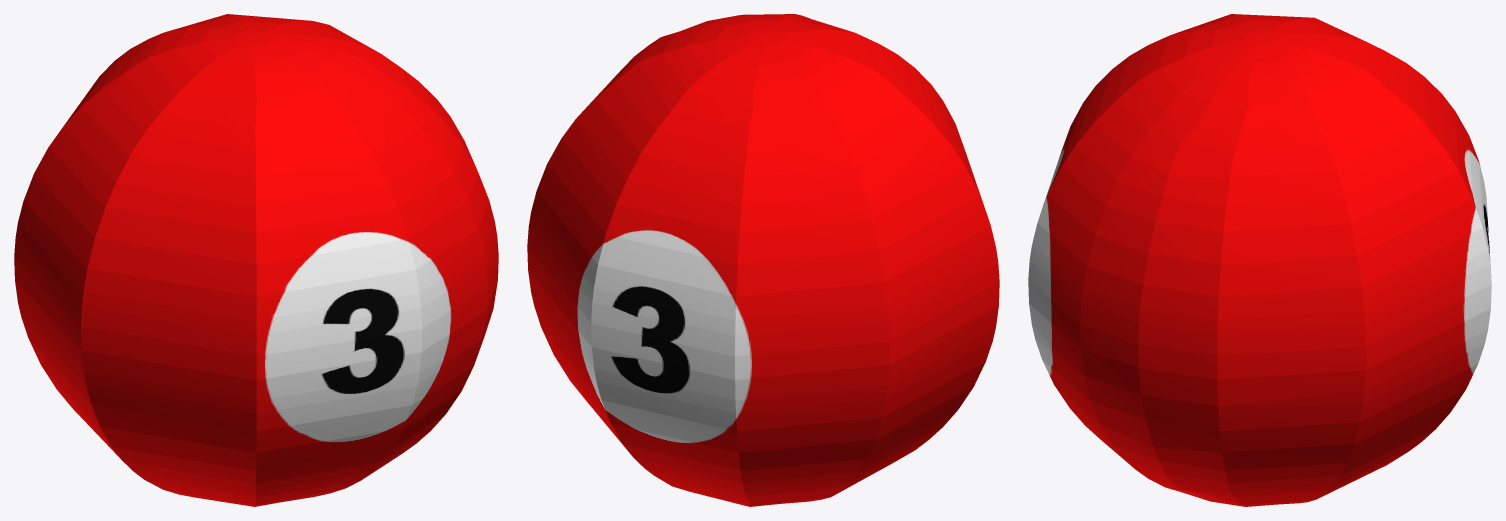
Rendered from 3Ball.fbx.
3 renders of one model, left to right at view 1: azimuth 30°, elevation 25°; view 2: azimuth 150°, elevation 25°; view 3: azimuth 270°, elevation 25°, orthographic.
Parts seen in each view (by area): view 1: Eight_Ball_eight_ball; view 2: Eight_Ball_eight_ball; view 3: Eight_Ball_eight_ball.
Boxes of the visible parts, left/top/right/bottom form: Eight_Ball_eight_ball: left=14, top=14, right=498, bottom=506; Eight_Ball_eight_ball: left=527, top=14, right=999, bottom=506; Eight_Ball_eight_ball: left=1028, top=14, right=1491, bottom=506.
Bounding box in the file's own units: 0.3153 × 0.3281 × 0.3081.
